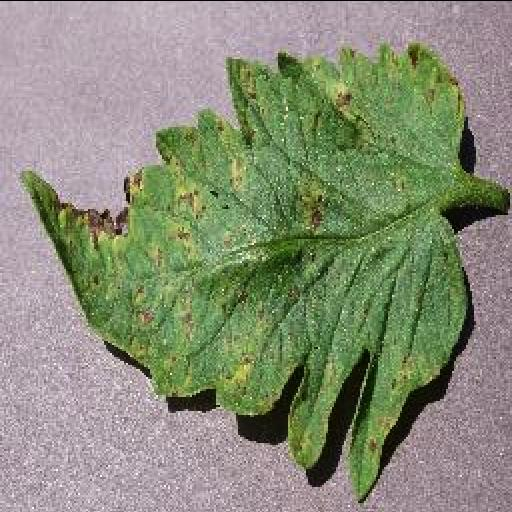disease_tomato: (18, 41, 470, 502)
